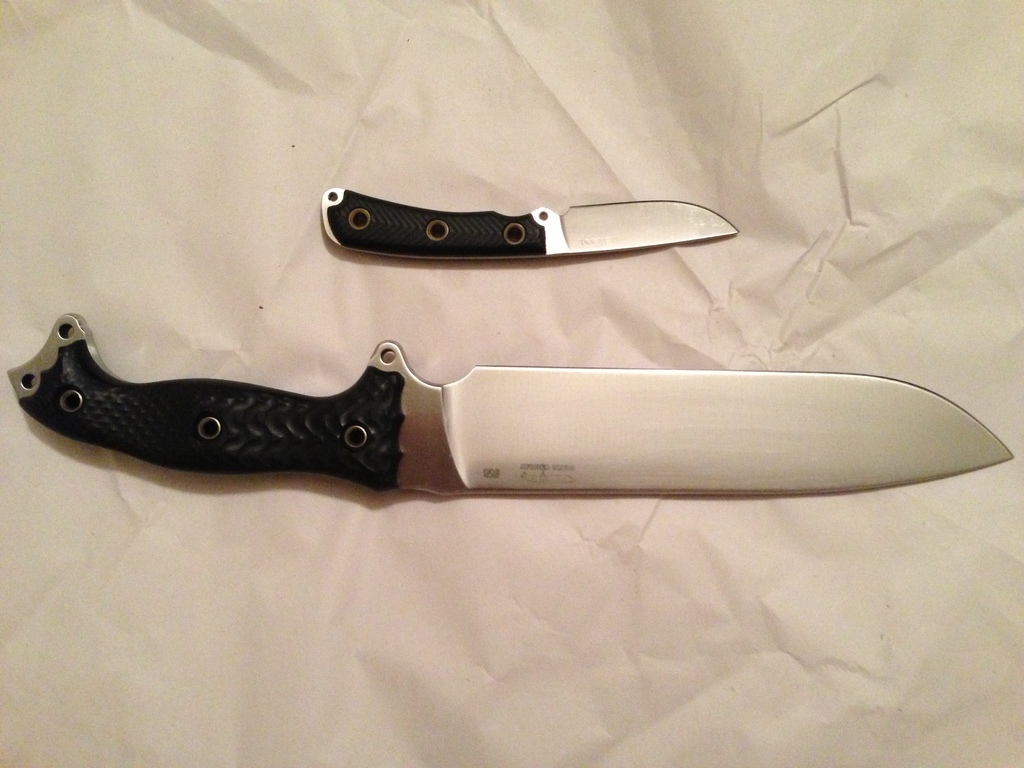knife: (7, 314, 1013, 495), (321, 187, 739, 259)
